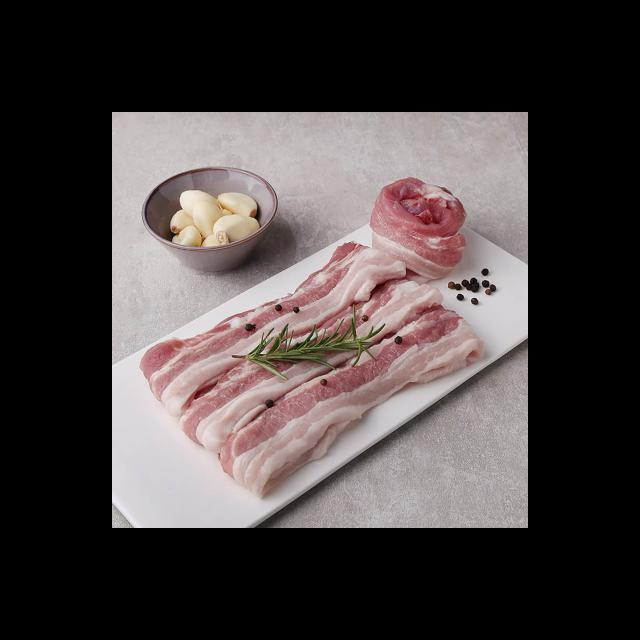pork: (164, 258, 476, 488), (370, 181, 467, 272)
